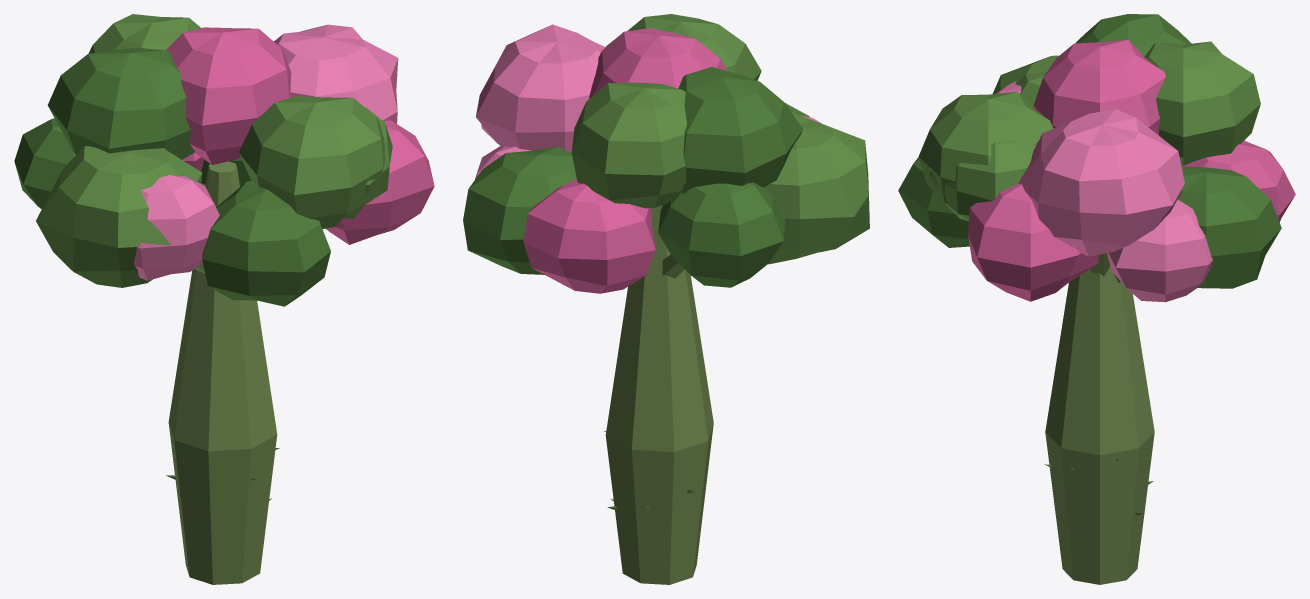
The model's file is tree_silk_floss_large.glb.
3 renders of one model, left to right at view 1: azimuth 30°, elevation 25°; view 2: azimuth 150°, elevation 25°; view 3: azimuth 270°, elevation 25°, orthographic. The views are drawn at different scales.
Visible parts, largest first — view 1: tree_silk_floss_large; view 2: tree_silk_floss_large; view 3: tree_silk_floss_large.
Part boxes in pixels (x1,y1,x2,y2): tree_silk_floss_large: [14, 14, 434, 584]; tree_silk_floss_large: [463, 14, 869, 584]; tree_silk_floss_large: [898, 14, 1295, 584].
Size of the model in its own units: 12.68 by 18 by 12.42.
